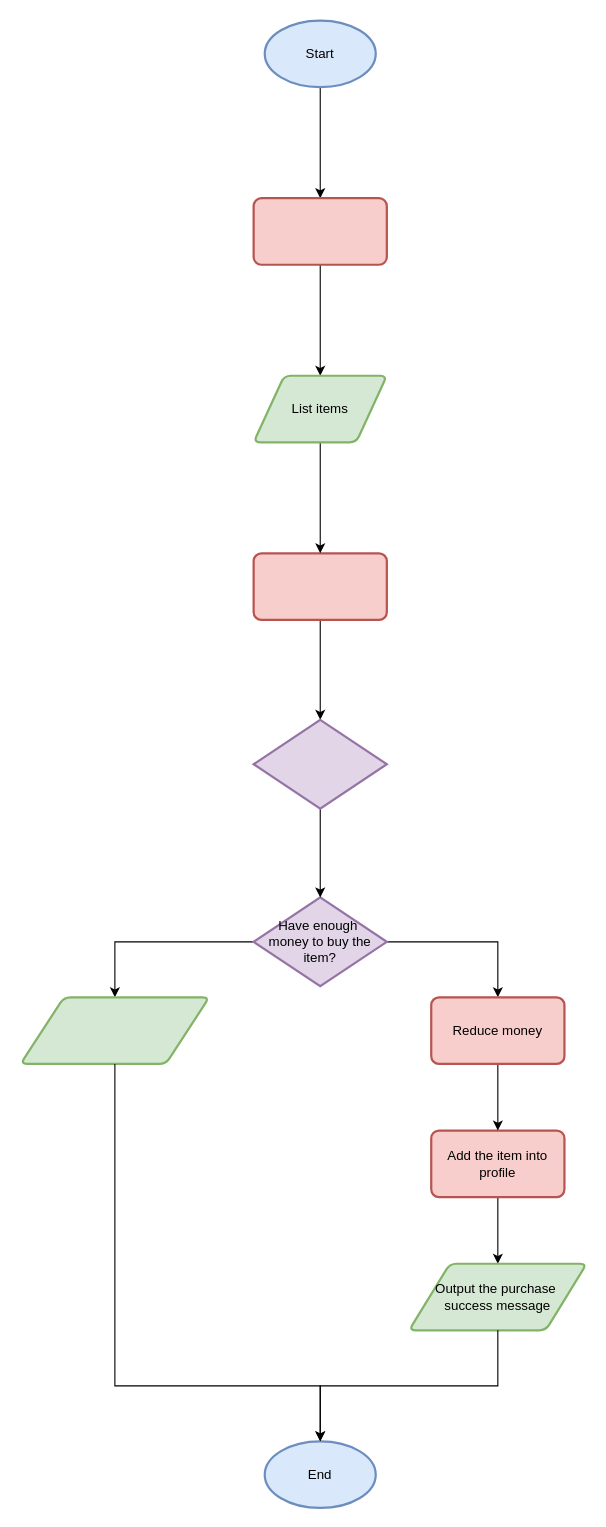
This 606x1527 diagram has some shape labels left out. The box of each missing label's shape, as (x1, y1, x2, y2) in pixels:
Confirm to buy the item?: (252, 718, 387, 809)
Output the message that the money is not enough: (19, 996, 210, 1064)
Purchase an item: (252, 552, 387, 620)
Select a type of item: (252, 196, 387, 265)
